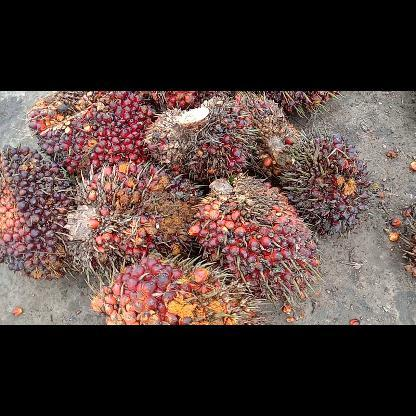TBS masak: (187, 175, 321, 307), (72, 167, 204, 271), (91, 252, 269, 324), (27, 91, 157, 175), (0, 146, 78, 280), (281, 131, 375, 235), (145, 98, 257, 182), (234, 92, 304, 178), (262, 93, 341, 118)
